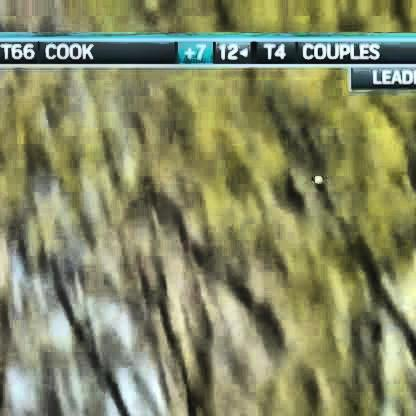golfball: (310, 171, 317, 181)
